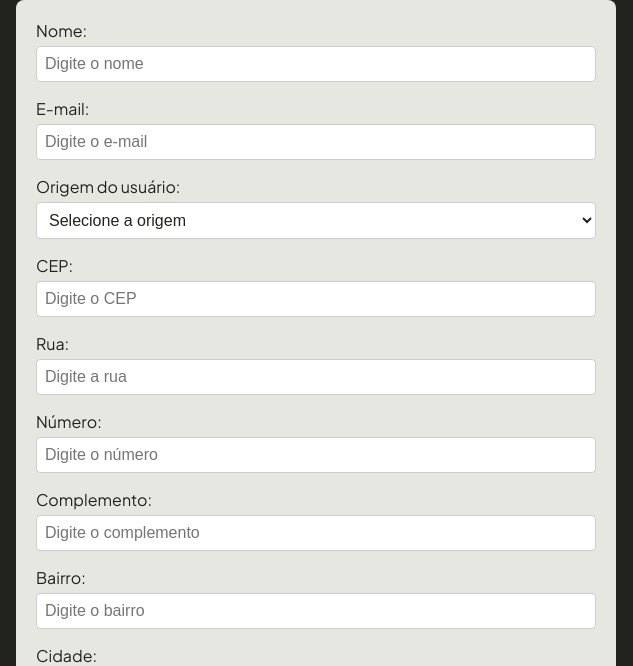
Test case: FormRegisterUser › deve exibir mensagem de erro ao sair do campo de origem quando estiver vazio
Select "Selecione a origem" in the dropdown with id "origin" at (316, 220), box [36,202,596,239]
Leave the dropdown with id "origin", box [36,202,596,239]
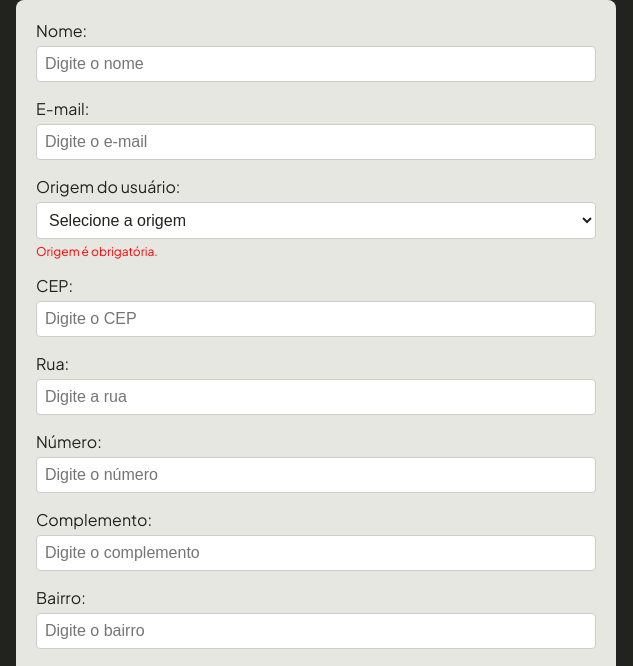
Now the text with class "error" reads "Origem é obrigatória.", box [36,244,158,259]
